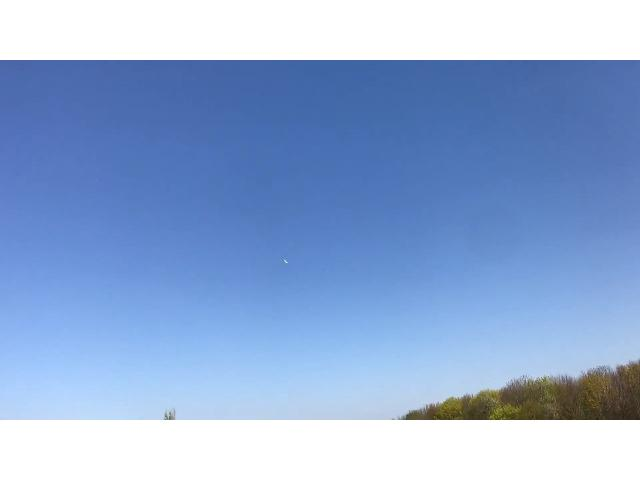Anti-Drone: (280, 255, 302, 273)
